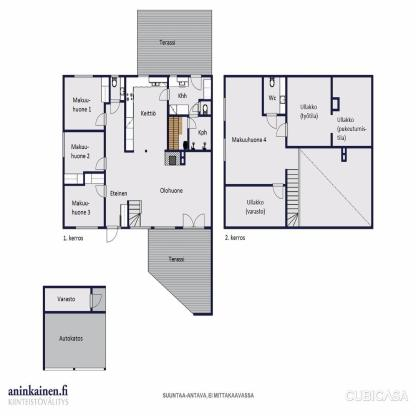door: (181, 212, 205, 232), (265, 112, 278, 130), (106, 226, 118, 244), (94, 183, 108, 198), (273, 183, 284, 200), (88, 293, 101, 307), (276, 124, 289, 137), (190, 102, 202, 116), (191, 75, 202, 88), (96, 114, 106, 127), (110, 100, 119, 114), (95, 158, 105, 170), (159, 89, 169, 101), (188, 118, 198, 130), (193, 104, 200, 114)
window: (129, 223, 151, 232), (75, 367, 103, 373), (76, 225, 98, 231), (74, 74, 91, 80), (155, 226, 175, 231), (223, 99, 227, 120), (45, 369, 73, 372), (223, 139, 226, 163), (62, 133, 65, 157)
zone: (106, 75, 211, 228), (226, 76, 299, 182), (287, 148, 371, 226), (286, 76, 370, 146), (148, 230, 212, 320), (138, 10, 211, 73), (45, 313, 104, 367), (226, 186, 285, 225), (64, 77, 105, 130), (64, 172, 104, 226), (64, 132, 104, 184), (168, 74, 210, 116), (44, 288, 92, 311), (263, 76, 286, 114), (168, 115, 188, 148), (190, 116, 209, 149), (106, 76, 127, 101), (91, 288, 106, 310), (199, 100, 212, 116)
